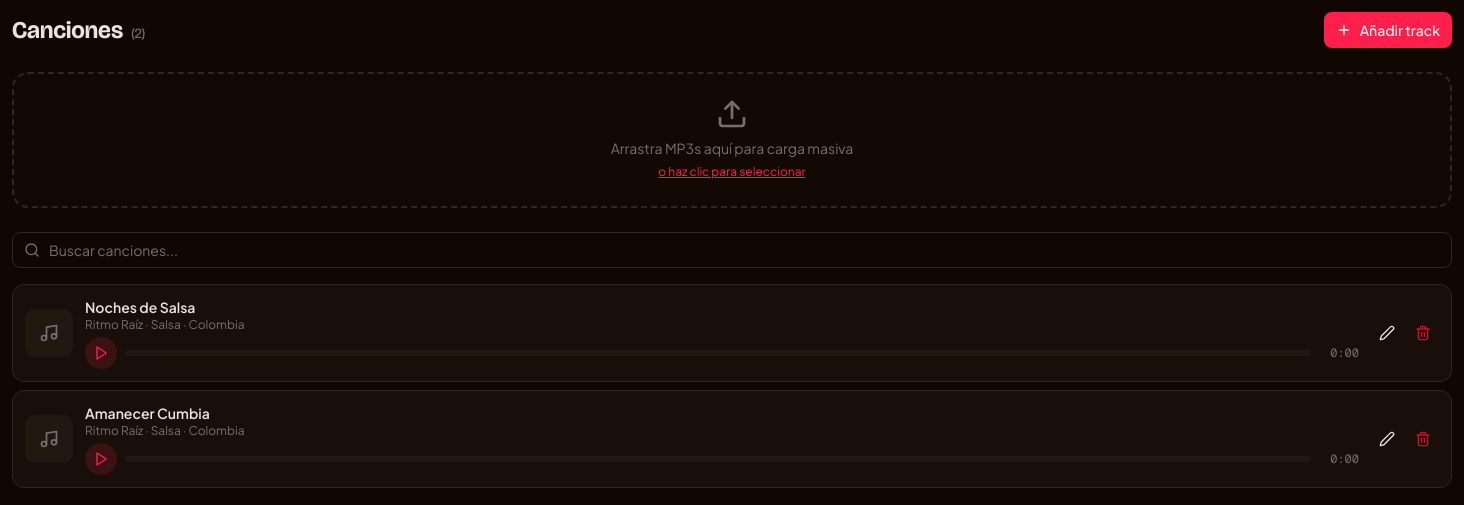
Test: TracksPanel flag controls › filters the track list by the search box
This screenshot has width=1464, height=505.
In the field with test id "admin.tracks_search_input": [732, 250] box top-left (12, 232), bottom-right (1452, 268), type "Cumbia"
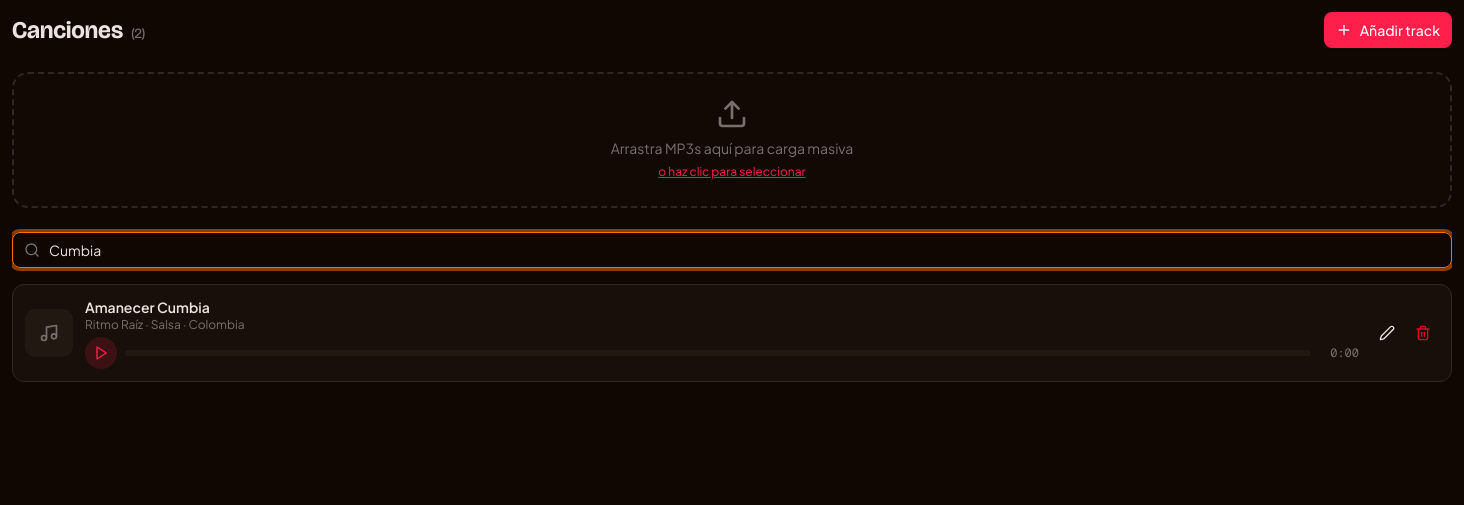
Expected: the text "Amanecer Cumbia" is shown, top-left (85, 298), bottom-right (210, 316)
Expected: the text "Noches de Salsa" is gone
